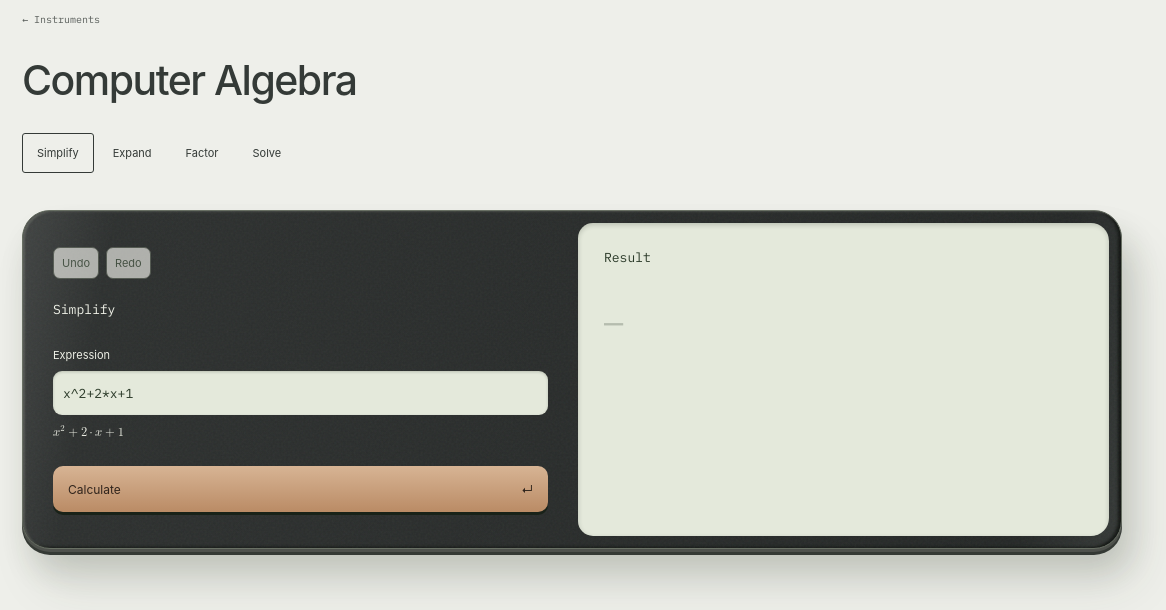
Test case: cancels outdated calculations when the input changes
Click the button "Calculate ↵" at (94, 489), box [53,466,548,512]
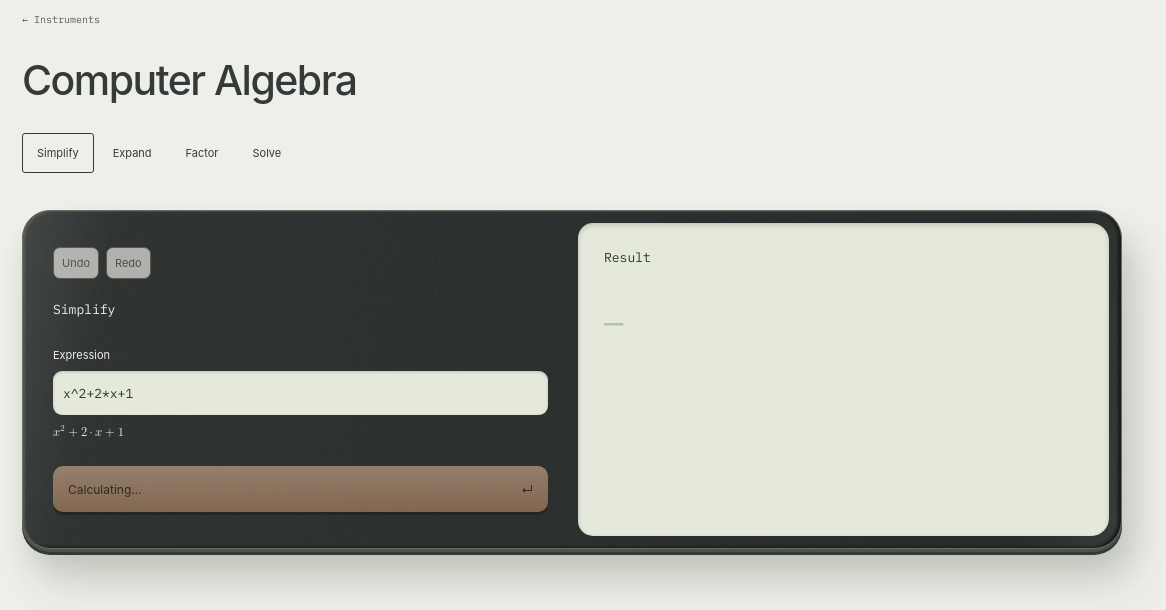
Replace the text in the field labelled "Expression" with "x+2" at (300, 393), box [53,371,548,415]
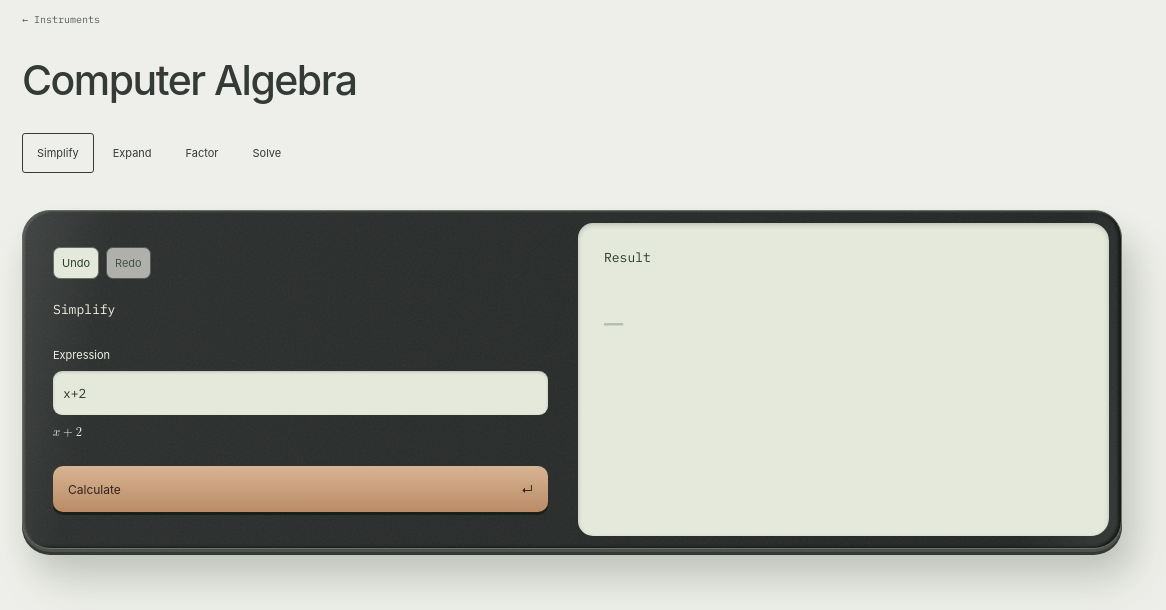
Check: the button "Calculate ↵" is enabled, box [53,466,548,512]
